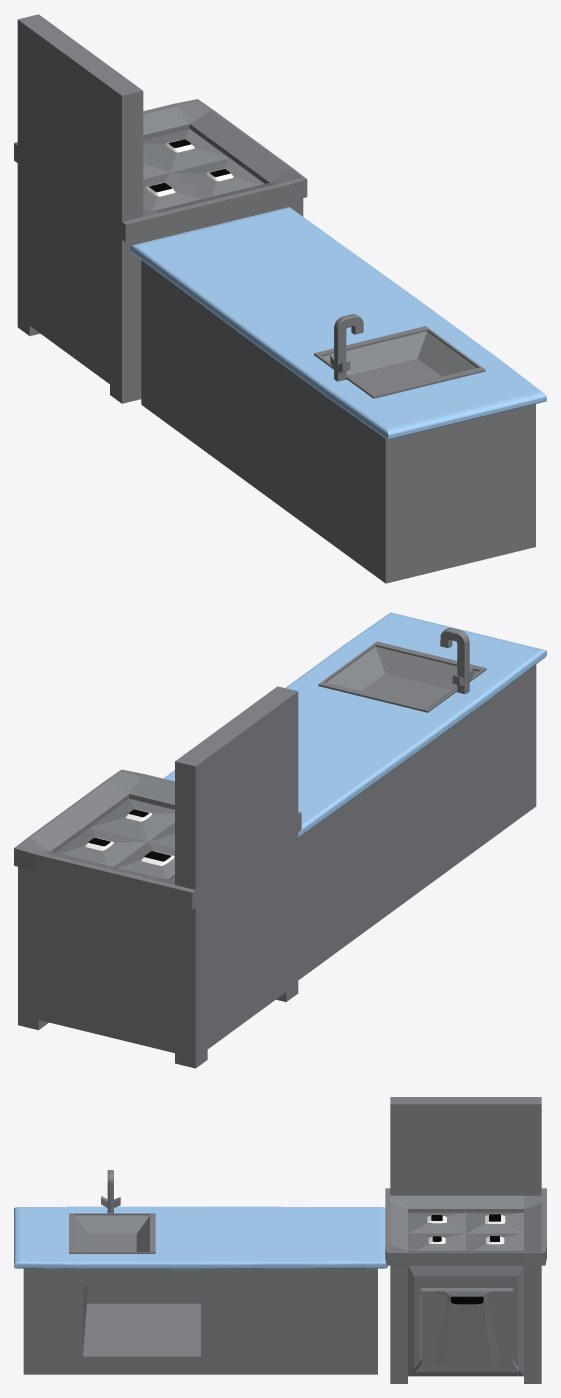
Rendered from wasbak and kookplaat.fbx.
The picture shows the model from 3 angles, top to bottom: view 1: azimuth 30°, elevation 25°; view 2: azimuth 150°, elevation 25°; view 3: azimuth 270°, elevation 25°; orthographic projection. The views are drawn at different scales.
Parts seen in each view (by area): view 1: wasbak and kookplaat; view 2: wasbak and kookplaat; view 3: wasbak and kookplaat.
Boxes of the visible parts, x1,y1,x2,y2 form: wasbak and kookplaat: (14, 14, 546, 583); wasbak and kookplaat: (14, 612, 546, 1068); wasbak and kookplaat: (14, 1097, 546, 1383).
Bounding box in the file's own units: 7111 × 10349 × 22423.
